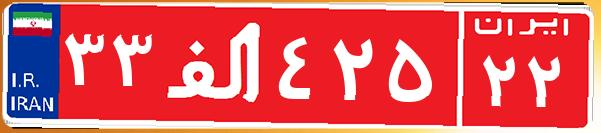2: (330, 28, 385, 110), (475, 38, 525, 113), (525, 38, 570, 115)
3: (57, 26, 110, 107), (110, 28, 158, 105)
4: (273, 28, 330, 110)
5: (385, 28, 445, 110)
الف: (158, 15, 273, 115)
